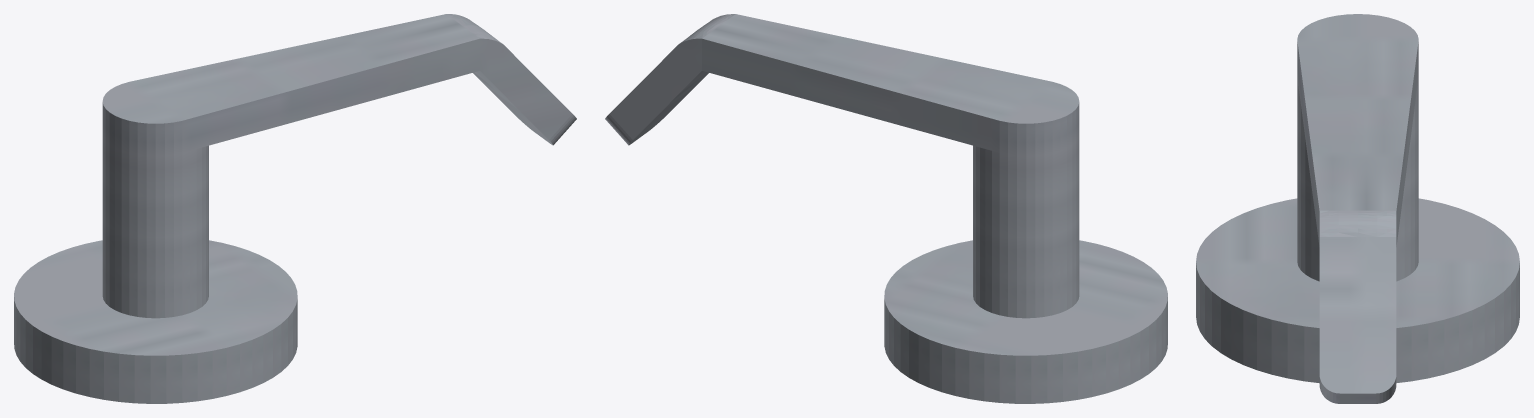
File: handle.dae
3 views of the same model, side by side, from view 1: azimuth 30°, elevation 25°; view 2: azimuth 150°, elevation 25°; view 3: azimuth 270°, elevation 25° (orthographic). The views are drawn at different scales.
Parts seen in each view (by area): view 1: skpED40 (×2); view 2: skpED40 (×2); view 3: skpED40 (×2).
Boxes of the visible parts, bbox=[...] form: skpED40 (×2): bbox=[14, 14, 576, 403]; skpED40 (×2): bbox=[605, 14, 1167, 403]; skpED40 (×2): bbox=[1196, 14, 1519, 403].
Bounding box in the file's own units: 8.67 × 4 × 3.77.
1 material, 1 textured.
